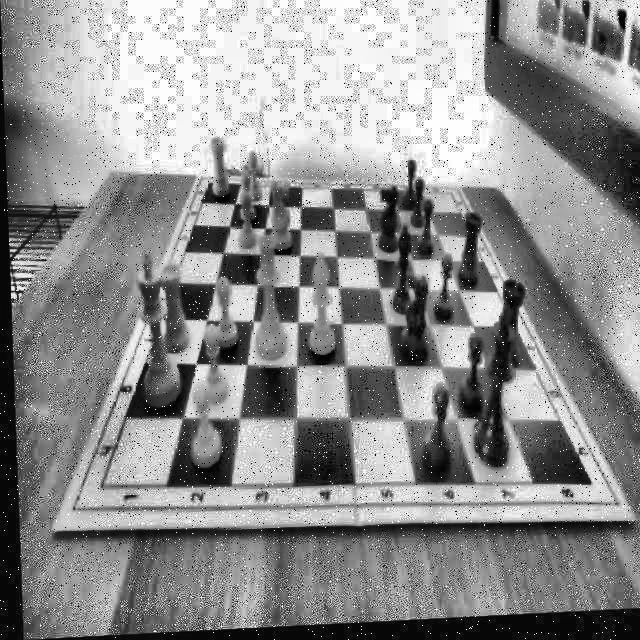black-bishop: (384, 227, 410, 325)
black-king: (464, 309, 516, 476)
black-knight: (395, 278, 429, 371), (374, 187, 399, 258)
black-pawn: (418, 392, 451, 479), (454, 335, 482, 422), (428, 256, 453, 327), (414, 206, 432, 262), (398, 165, 416, 217), (406, 183, 424, 232)
black-rook: (489, 282, 524, 372), (455, 215, 483, 292)
white-bishop: (304, 253, 333, 360)
white-king: (129, 253, 179, 409)
white-knight: (266, 184, 292, 255)
white-pawn: (184, 383, 220, 473), (198, 326, 230, 409), (208, 277, 236, 350), (236, 194, 256, 251), (236, 171, 253, 225), (244, 153, 260, 204)
white-queen: (248, 235, 284, 363)
white-rook: (155, 265, 189, 355), (209, 140, 229, 201)
